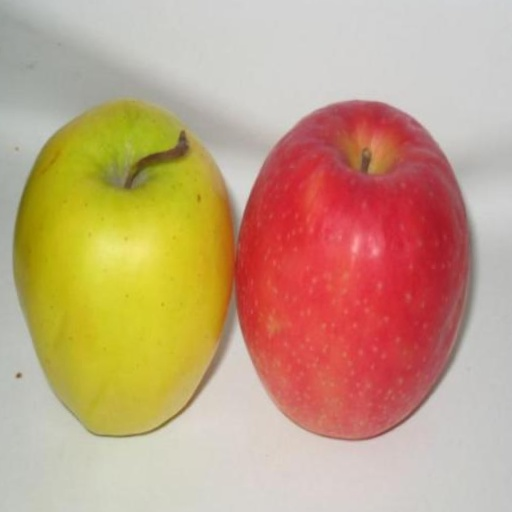fruit: (236, 101, 469, 439), (14, 100, 234, 435)
